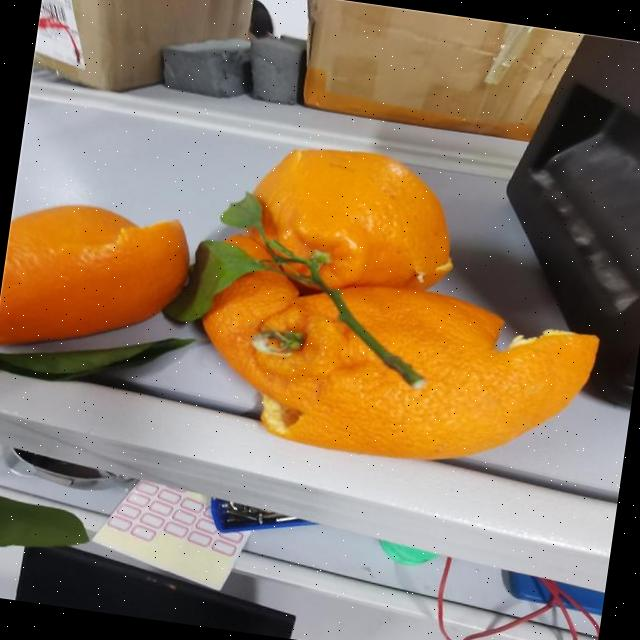orange-peel: (236, 264, 604, 484), (238, 134, 467, 310), (0, 192, 197, 369)
